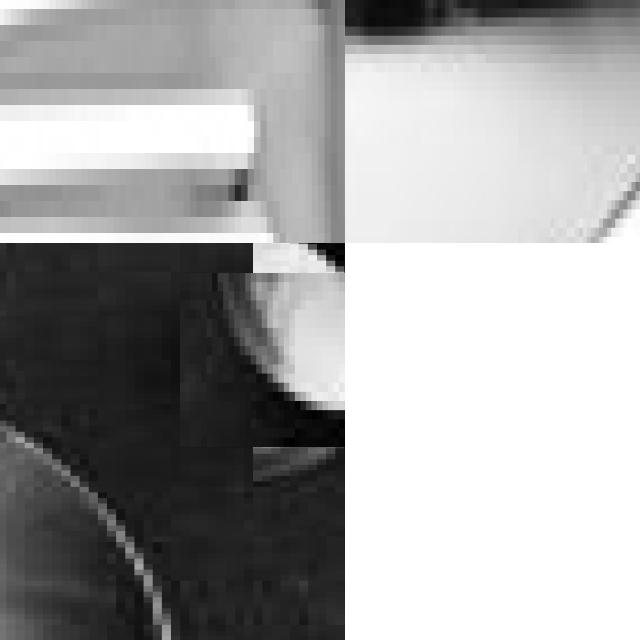forks: (0, 0, 345, 243)
spoons: (345, 0, 640, 243), (217, 243, 345, 484)
